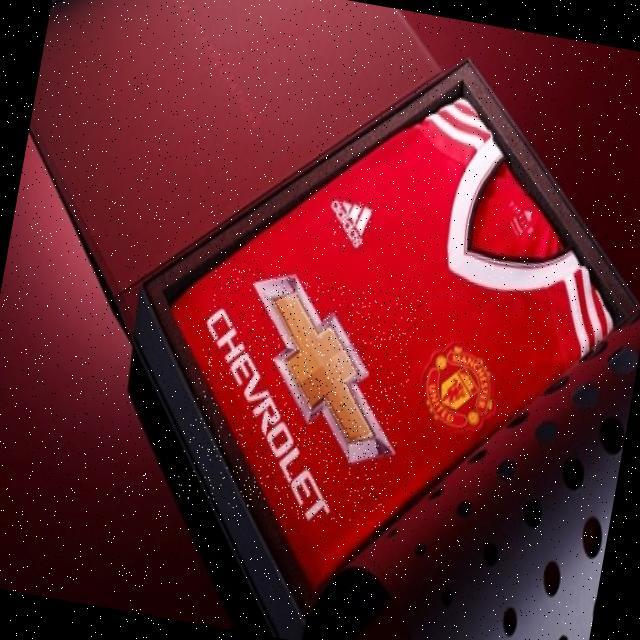Adidas: (326, 195, 375, 251)
Chevrolet: (174, 261, 423, 534)
